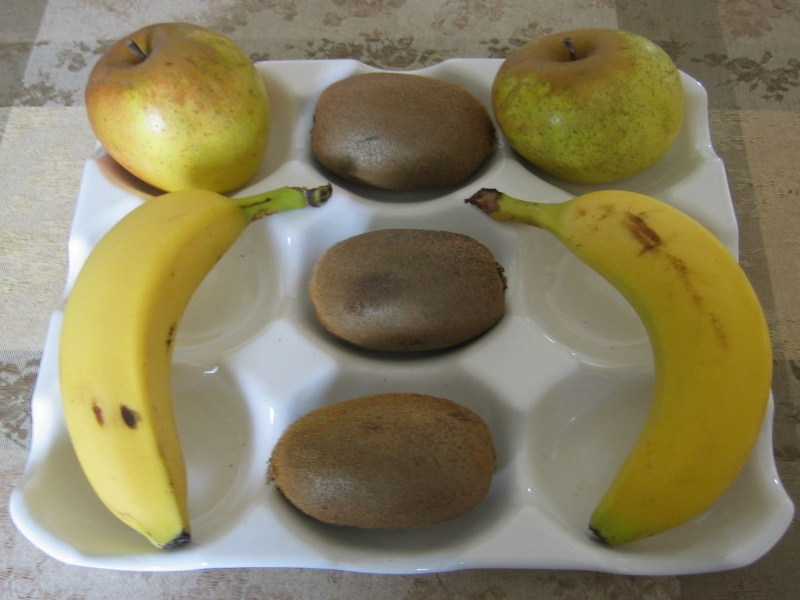banana: (479, 179, 779, 565), (62, 176, 291, 552)
